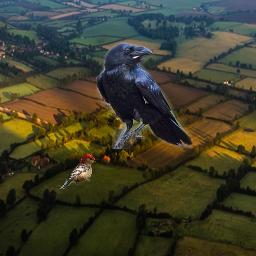Crow: (96, 42, 195, 149)
Woodpecker: (59, 153, 102, 190)
